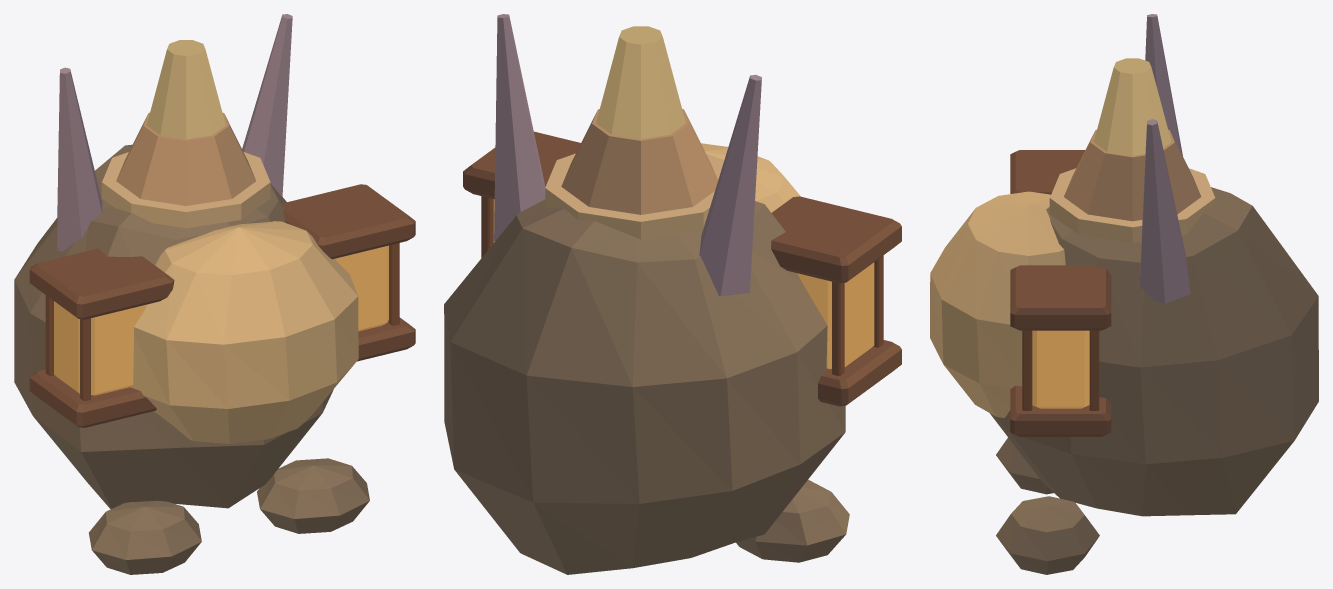
The model's file is duel_keeper_bell.glb.
3 renders of one model, left to right at view 1: azimuth 30°, elevation 25°; view 2: azimuth 150°, elevation 25°; view 3: azimuth 270°, elevation 25°, orthographic. The views are drawn at different scales.
Visible parts, largest first — view 1: keeper_bell; view 2: keeper_bell; view 3: keeper_bell.
Boxes of the visible parts, x1,y1,x2,y2 form: keeper_bell: (14, 14, 415, 574); keeper_bell: (444, 14, 901, 574); keeper_bell: (930, 14, 1318, 574).
Bounding box in the file's own units: 1.18 × 1.56 × 1.19.
